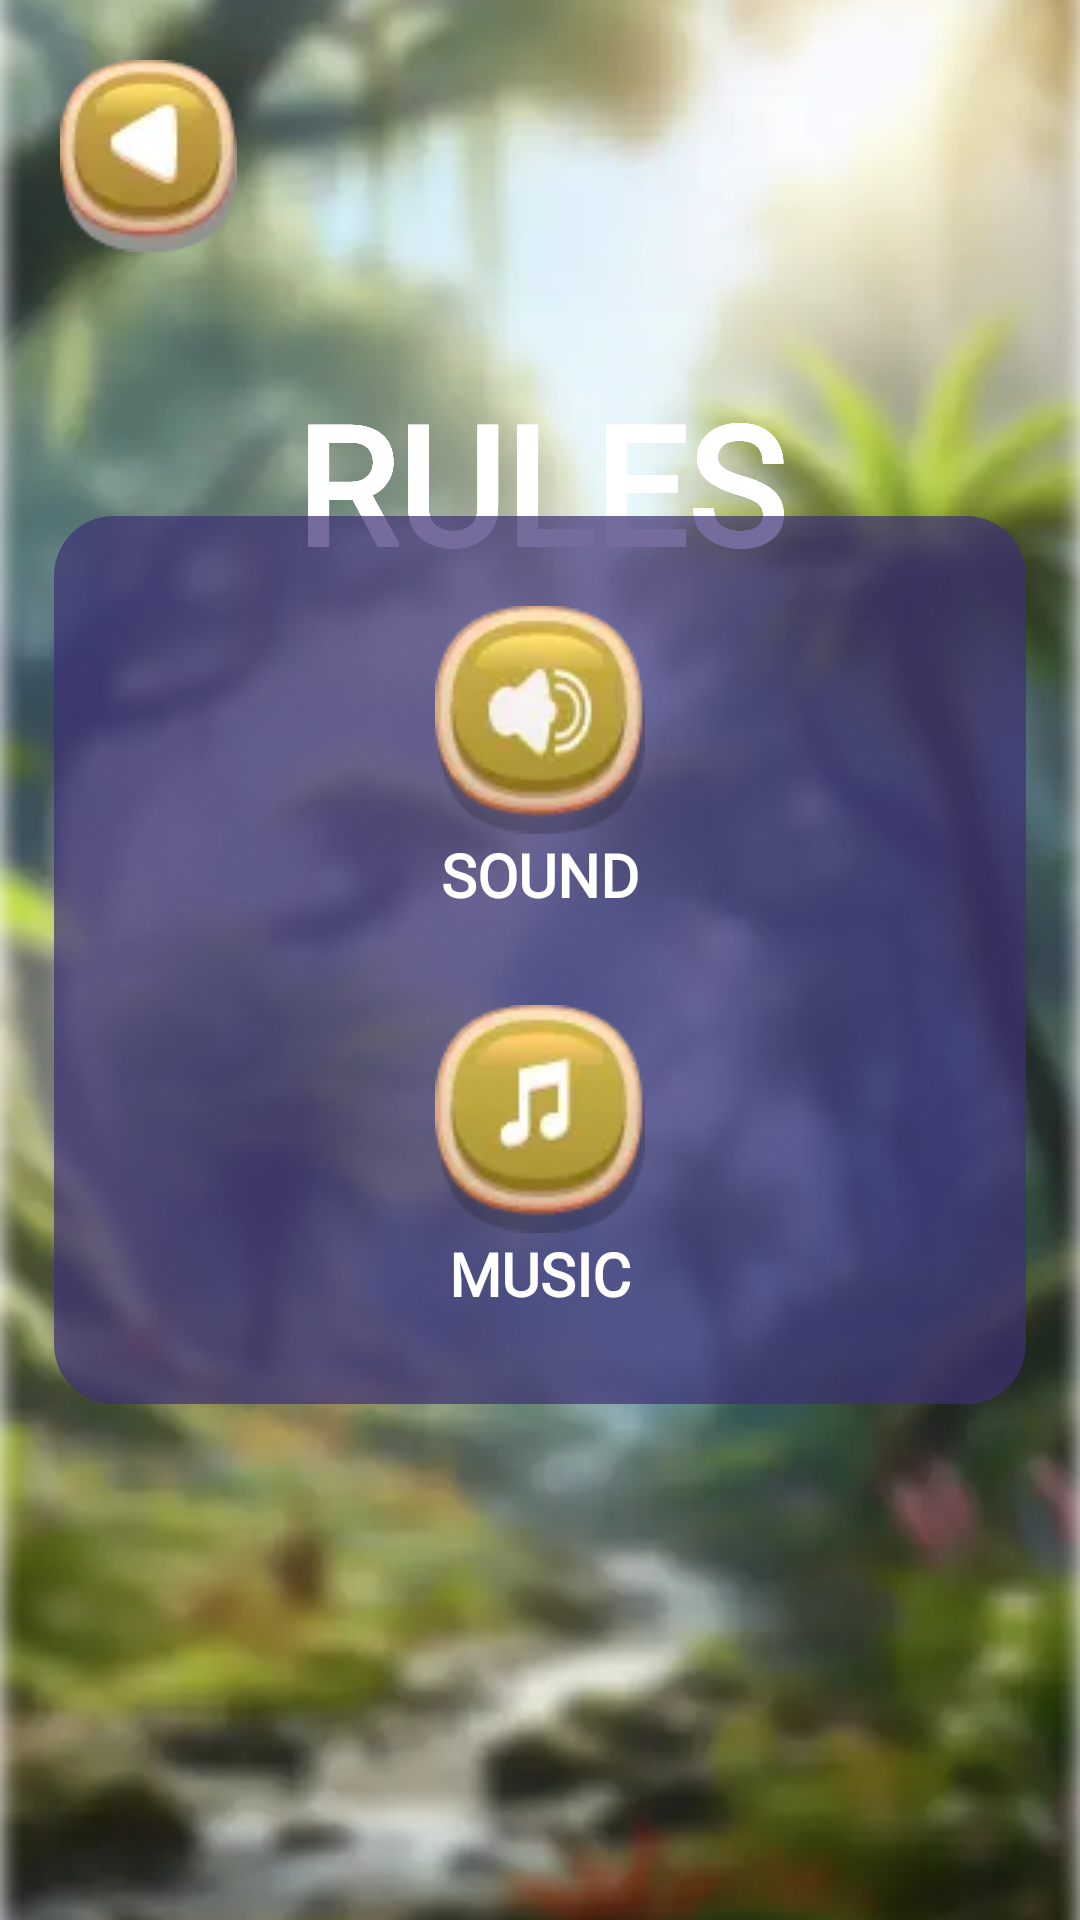

Screen size 1080 × 1920. Icon name, then its center in pixels as point (x, y):
back: point (148, 156)
